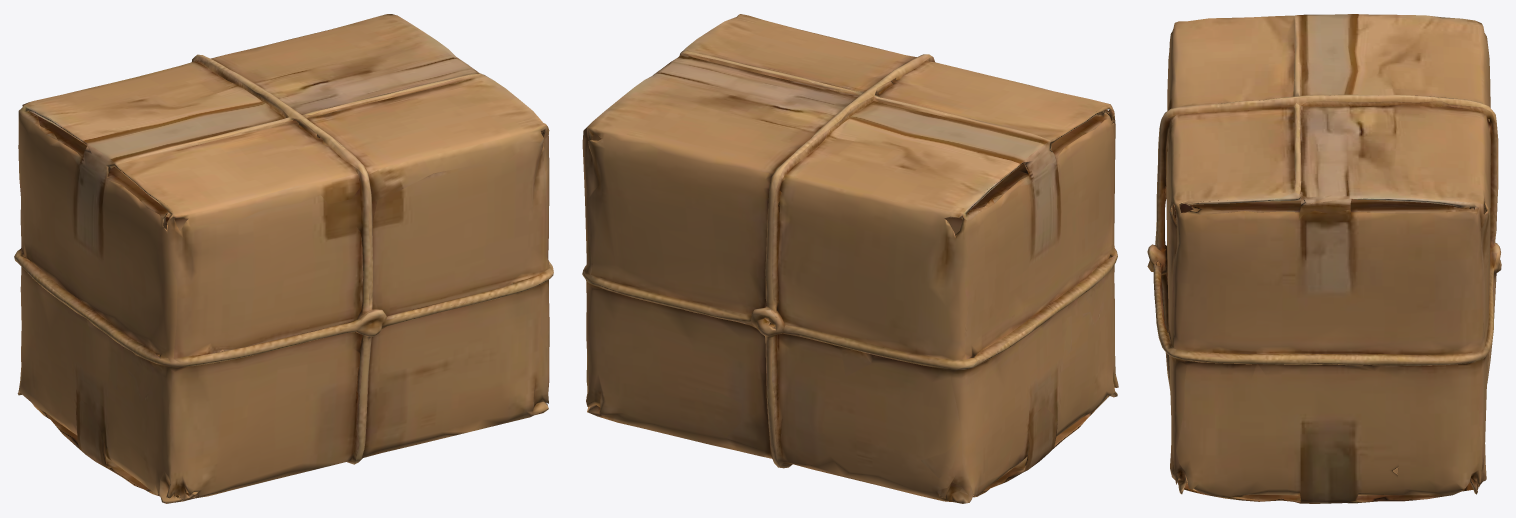
The model's file is caja_mudanza.glb.
3 renders of one model, left to right at view 1: azimuth 30°, elevation 25°; view 2: azimuth 150°, elevation 25°; view 3: azimuth 270°, elevation 25°, orthographic.
Visible parts, largest first — view 1: geometry_0; view 2: geometry_0; view 3: geometry_0.
Boxes of the visible parts, x1,y1,x2,y2 form: geometry_0: [14, 14, 553, 503]; geometry_0: [582, 14, 1118, 503]; geometry_0: [1147, 14, 1501, 503].
Bounding box in the file's own units: 0.6 × 0.45 × 0.45.
Materials: 1 (1 with a texture image).
